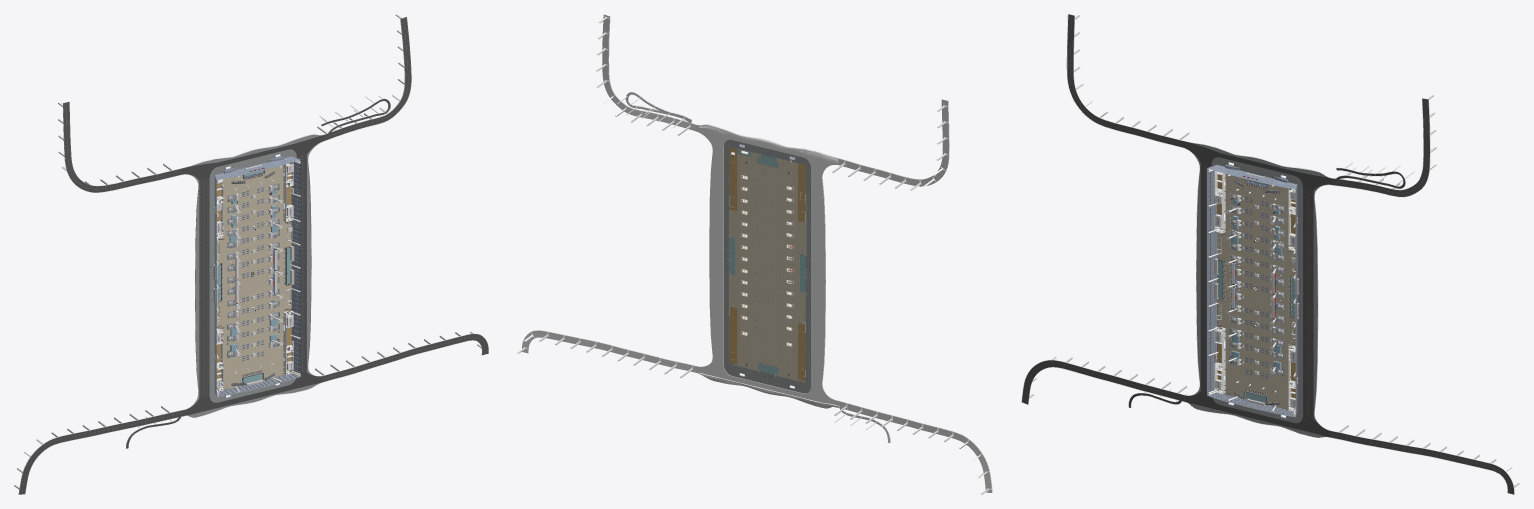
Rendered from 5_2F_LDep_Pack.gltf.
3 views of the same model, side by side, from view 1: azimuth 30°, elevation 25°; view 2: azimuth 150°, elevation 25°; view 3: azimuth 330°, elevation 25° (orthographic). The views are drawn at different scales.
Visible parts, largest first — view 1: object 1, object 14, object 4, object 9; view 2: object 1, object 4; view 3: object 1, object 14, object 4, object 9.
Part boxes in pixels (left/top/right/bottom): object 1: left=187, top=134, right=321, bottom=417; object 14: left=19, top=17, right=488, bottom=494; object 4: left=14, top=14, right=488, bottom=494; object 9: left=214, top=154, right=301, bottom=398; object 1: left=724, top=139, right=810, bottom=393; object 4: left=517, top=14, right=992, bottom=494; object 1: left=1188, top=142, right=1327, bottom=437; object 14: left=1022, top=14, right=1513, bottom=494; object 4: left=1021, top=14, right=1519, bottom=494; object 9: left=1207, top=162, right=1298, bottom=418.
Size of the model in its own units: 903 by 706 by 64.63.
31 materials, 23 textured.
